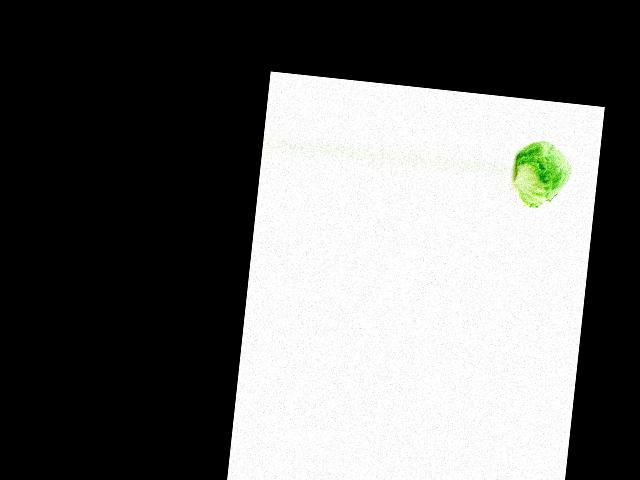lettuce: (511, 136, 576, 211)
